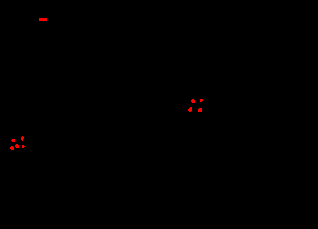Target: (39, 18, 47, 21), (188, 107, 192, 112), (191, 99, 195, 103), (198, 108, 202, 112), (15, 144, 19, 148), (10, 146, 14, 150), (21, 136, 24, 141), (11, 139, 15, 142), (200, 99, 203, 102), (22, 145, 25, 148)
